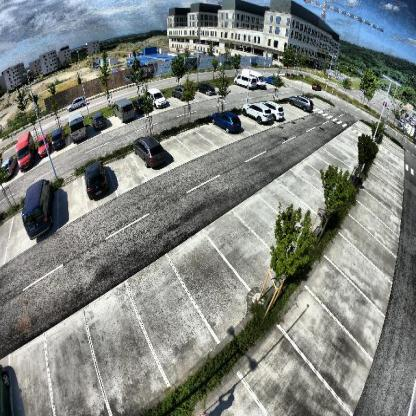free: (138, 287, 202, 371), (88, 319, 151, 390), (186, 261, 238, 334), (247, 360, 304, 406), (48, 343, 92, 400), (295, 323, 347, 371), (224, 233, 268, 286), (322, 281, 360, 324), (254, 214, 288, 254), (12, 354, 46, 394), (272, 198, 305, 228), (61, 186, 87, 224), (110, 157, 142, 187), (343, 250, 371, 284), (290, 176, 318, 208), (353, 226, 379, 258), (8, 220, 26, 256), (168, 141, 189, 168), (305, 164, 327, 187), (187, 126, 204, 153), (206, 124, 222, 146), (364, 207, 378, 228), (380, 200, 392, 224), (166, 88, 178, 104), (243, 117, 256, 131), (108, 112, 120, 126), (194, 87, 202, 102)
occupied: (20, 178, 54, 235), (133, 131, 166, 171), (82, 156, 108, 201), (213, 106, 241, 137), (12, 132, 34, 168), (288, 89, 315, 114), (245, 98, 269, 125), (67, 113, 86, 144), (112, 98, 134, 120), (269, 95, 285, 121), (198, 74, 215, 97), (51, 123, 64, 152), (172, 84, 191, 102), (90, 112, 106, 133), (34, 133, 48, 156), (0, 153, 14, 175), (152, 88, 166, 110), (136, 92, 149, 111)
